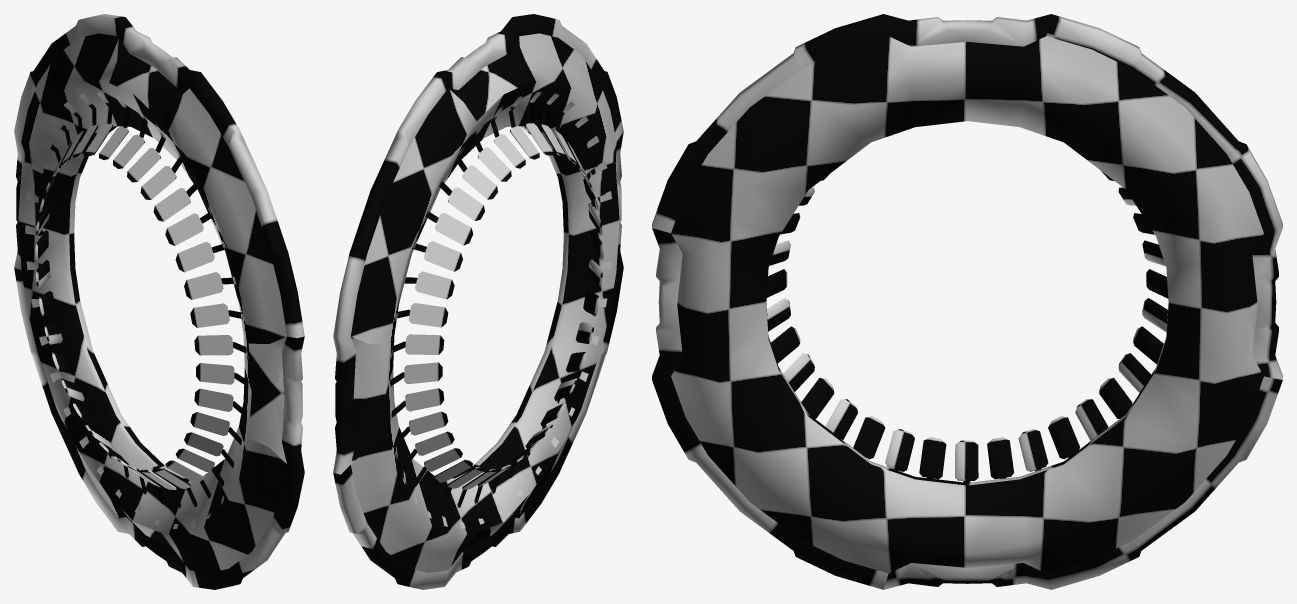
File: jumpgate_regular.obj
The picture shows the model from 3 angles, left to right: view 1: azimuth 30°, elevation 25°; view 2: azimuth 150°, elevation 25°; view 3: azimuth 270°, elevation 25°; orthographic projection. The views are drawn at different scales.
Visible parts, largest first — view 1: jumpgate_regular; view 2: jumpgate_regular; view 3: jumpgate_regular.
Part boxes in pixels (x1=…): jumpgate_regular: x1=14, y1=14, x2=304, y2=589; jumpgate_regular: x1=333, y1=14, x2=623, y2=589; jumpgate_regular: x1=652, y1=14, x2=1282, y2=589.
Bounding box in the file's own units: 73.72 × 517 × 517.
Materials: 1 (1 with a texture image).
